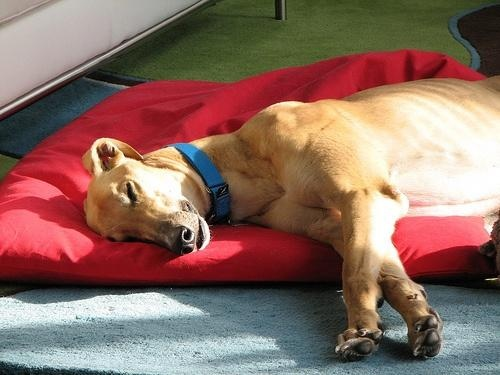dog: (76, 73, 500, 368)
